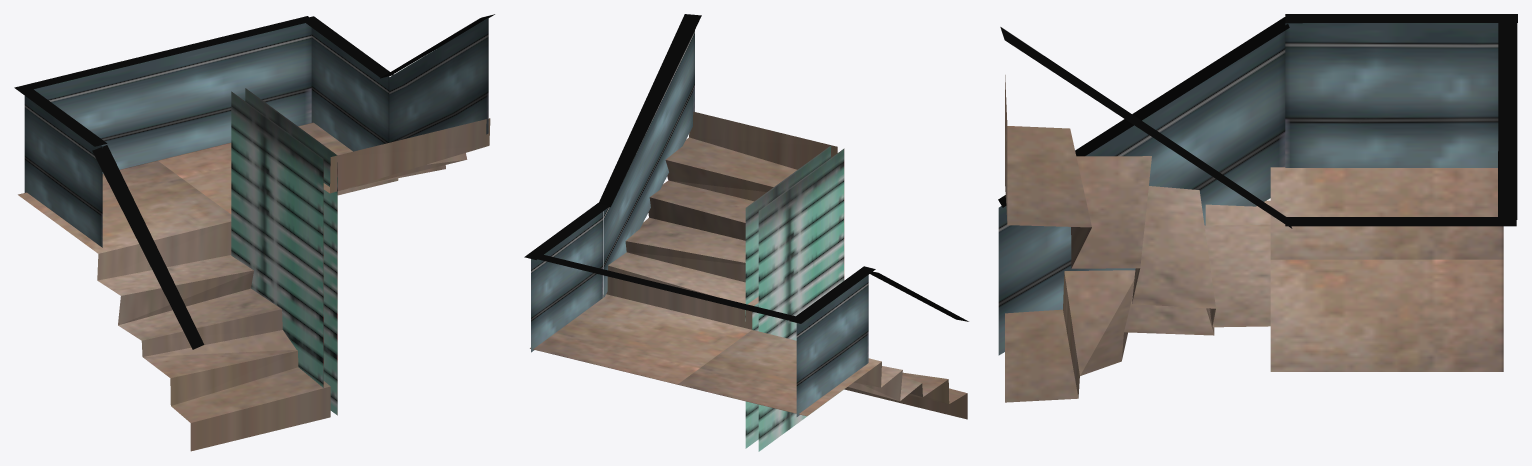
File: Treppe_Stahl_2476.glb
3 renders of one model, left to right at view 1: azimuth 30°, elevation 25°; view 2: azimuth 150°, elevation 25°; view 3: azimuth 270°, elevation 25°, orthographic. The views are drawn at different scales.
Parts seen in each view (by area): view 1: polySurfaceShape977, pPlaneShape5, pPlaneShape11, polySurfaceShape978, pPlaneShape2, pPlaneShape4, pPlaneShape3, pPlaneShape12, pPlaneShape6, pPlaneShape8, pPlaneShape9, pPlaneShape10 (+1 smaller); view 2: polySurfaceShape978, pPlaneShape11, polySurfaceShape977, pPlaneShape2, pPlaneShape4, pPlaneShape3, pPlaneShape7, pPlaneShape12, pPlaneShape8, pPlaneShape9, pPlaneShape10, pPlaneShape6; view 3: polySurfaceShape978, polySurfaceShape977, pPlaneShape4, pPlaneShape1, pPlaneShape8, pPlaneShape7, pPlaneShape6, pPlaneShape10, pPlaneShape9.
Boxes of the visible parts, x1,y1,x2,y2 form: polySurfaceShape977: (18,160,330,451); pPlaneShape5: (34,23,311,173); pPlaneShape11: (231,91,323,387); polySurfaceShape978: (158,118,490,213); pPlaneShape2: (389,18,488,142); pPlaneShape4: (24,96,102,247); pPlaneShape3: (311,28,389,151); pPlaneShape12: (245,88,337,415); pPlaneShape6: (92,145,204,349); pPlaneShape8: (24,16,313,89); pPlaneShape9: (14,85,107,146); pPlaneShape10: (306,16,393,78); polySurfaceShape978: (530,111,837,384); pPlaneShape11: (758,148,844,451); polySurfaceShape977: (677,330,967,419); pPlaneShape2: (603,30,694,297); pPlaneShape4: (796,275,868,416); pPlaneShape3: (531,211,602,352); pPlaneShape7: (599,14,701,207); pPlaneShape12: (745,145,831,448); pPlaneShape8: (530,252,797,321); pPlaneShape9: (789,266,875,323); pPlaneShape10: (524,203,610,259); pPlaneShape6: (870,271,968,321); polySurfaceShape978: (1005,75,1503,371); polySurfaceShape977: (1005,167,1503,402); pPlaneShape4: (1285,23,1498,167); pPlaneShape1: (998,31,1285,355); pPlaneShape8: (1498,20,1517,219); pPlaneShape7: (1000,27,1292,228); pPlaneShape6: (998,17,1289,207); pPlaneShape10: (1285,217,1516,226); pPlaneShape9: (1285,14,1517,23).
Bounding box in the file's own units: 0.4797 × 0.5464 × 0.4894.
14 materials, 9 textured.
